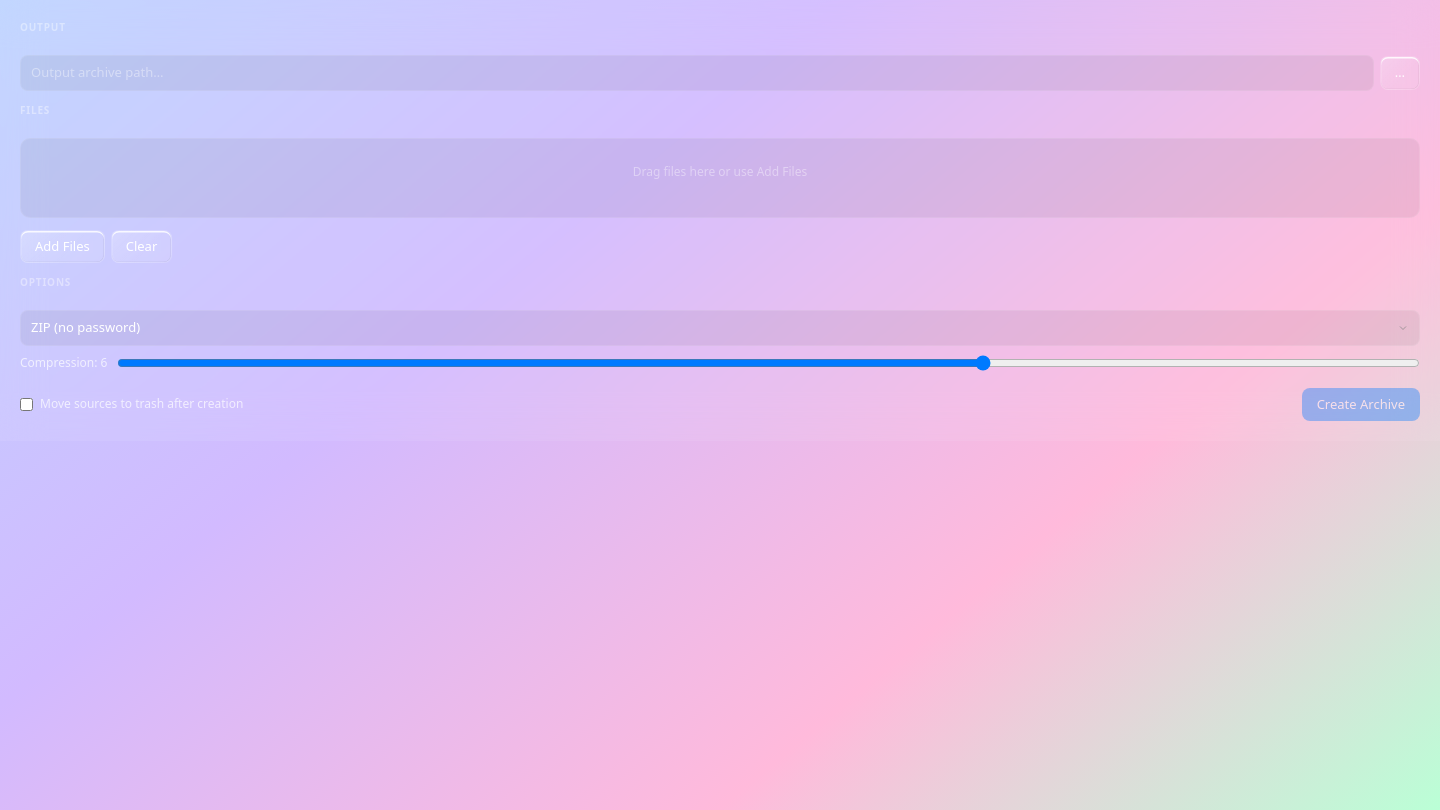
CreatePanel › remove button removes file from list
Click the button "Add Files": click(62, 246) [20,230,105,263]
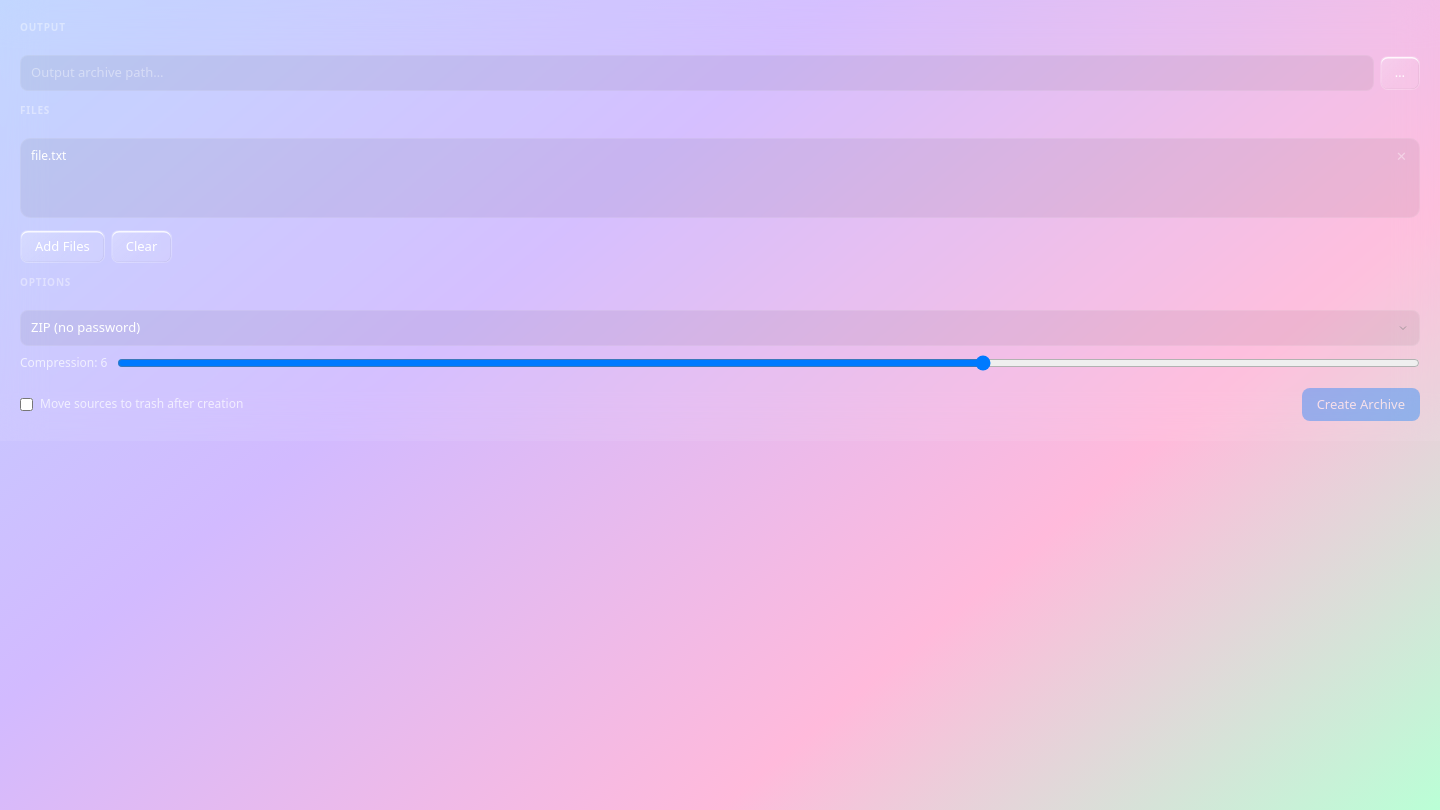
Result: the text "file.txt" is shown at [31,147,66,165]
Click the button "✕": click(1402, 156) [1394,144,1409,168]
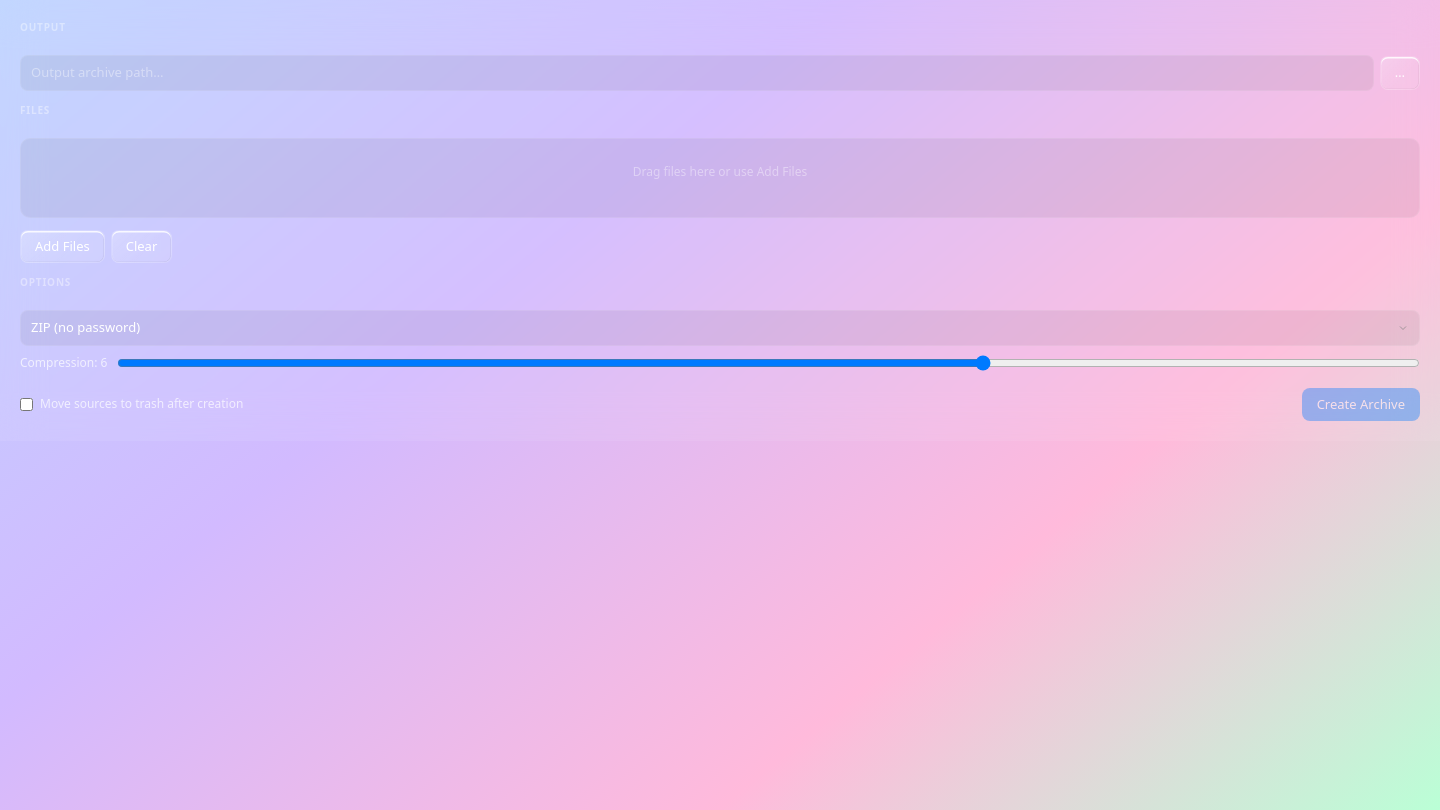
Result: the text "file.txt" is gone
